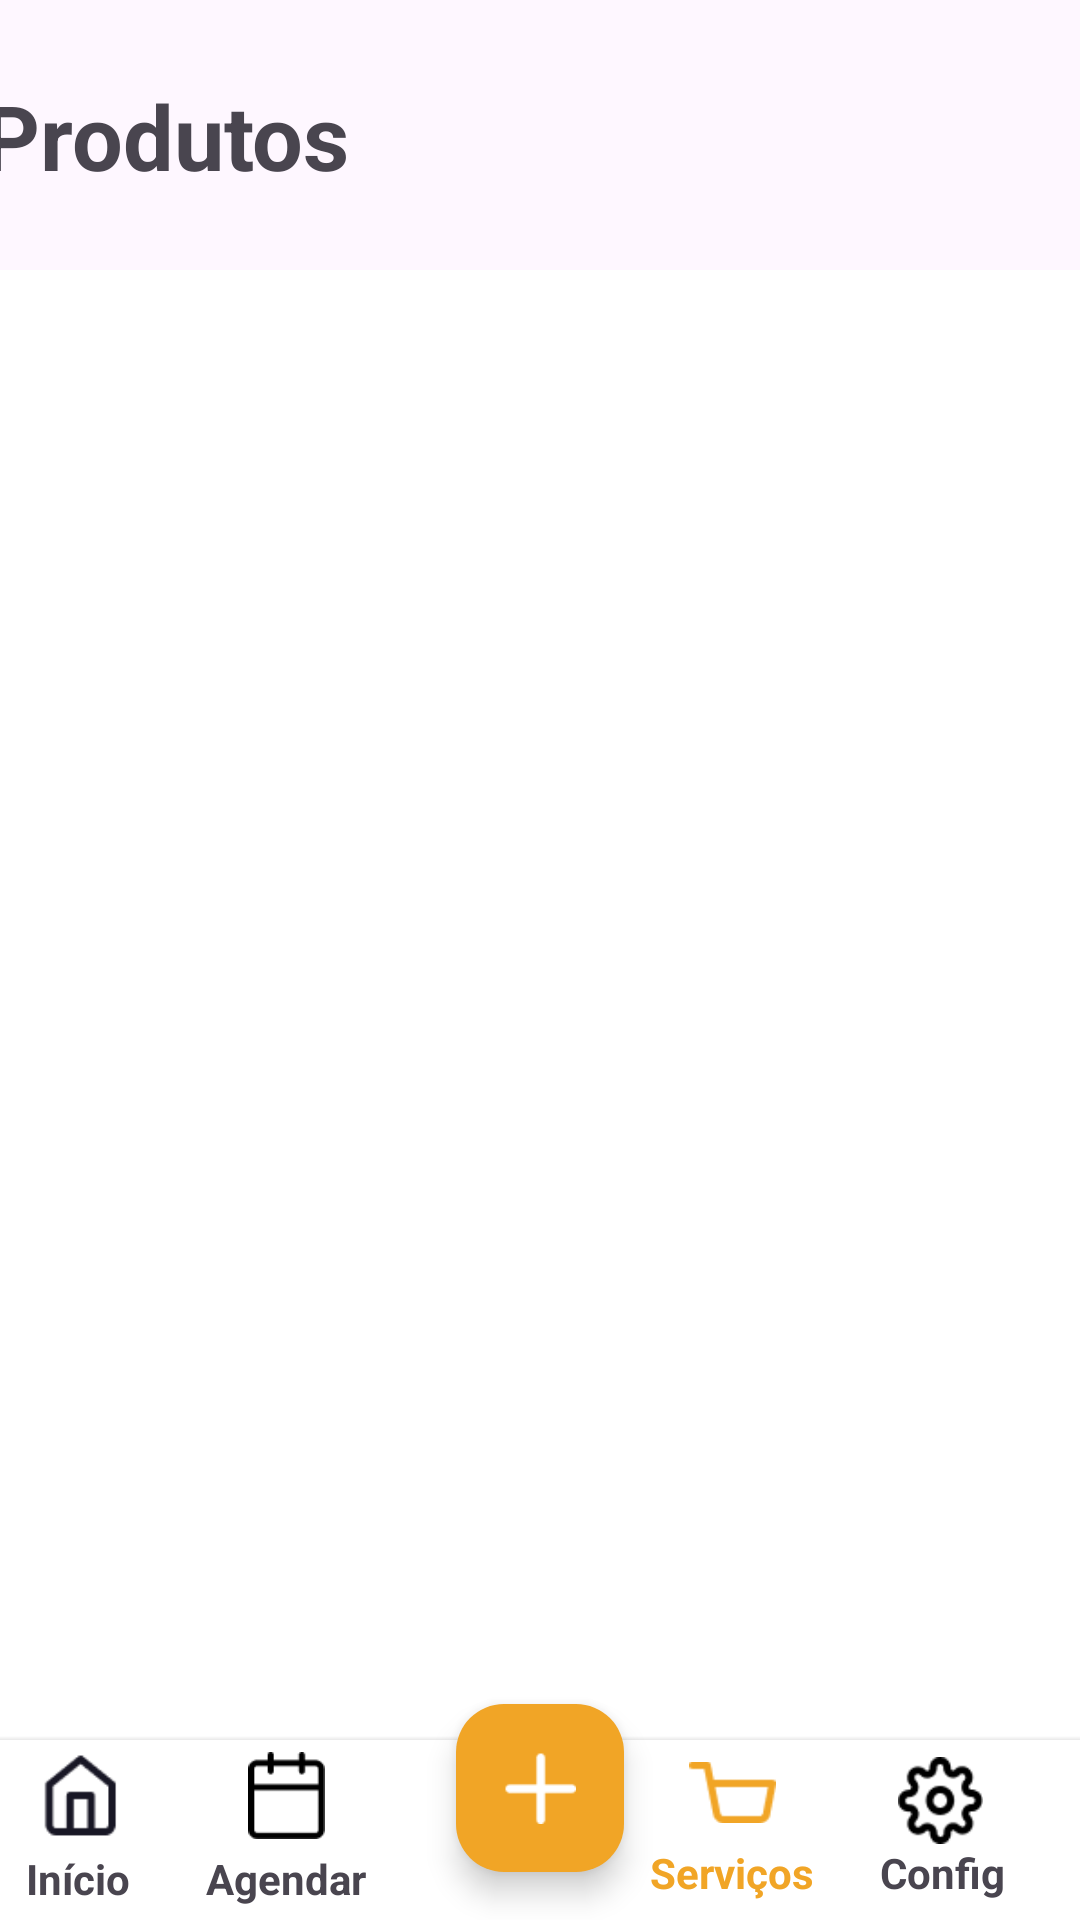

Locate icon controls on the screen. Image size 1080 x 1920, boxes as (x1, y1, x2, y2).
Add: (456, 1704, 624, 1872)
calendar: (248, 1752, 325, 1839)
